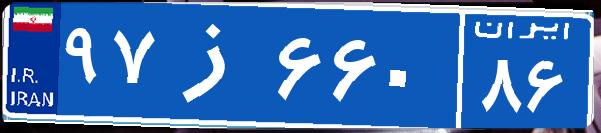0: (385, 28, 445, 110)
6: (273, 28, 330, 110), (330, 28, 385, 110), (525, 38, 570, 115)
7: (110, 28, 158, 105)
8: (475, 38, 525, 113)
9: (57, 26, 110, 107)
ز: (158, 15, 273, 115)
